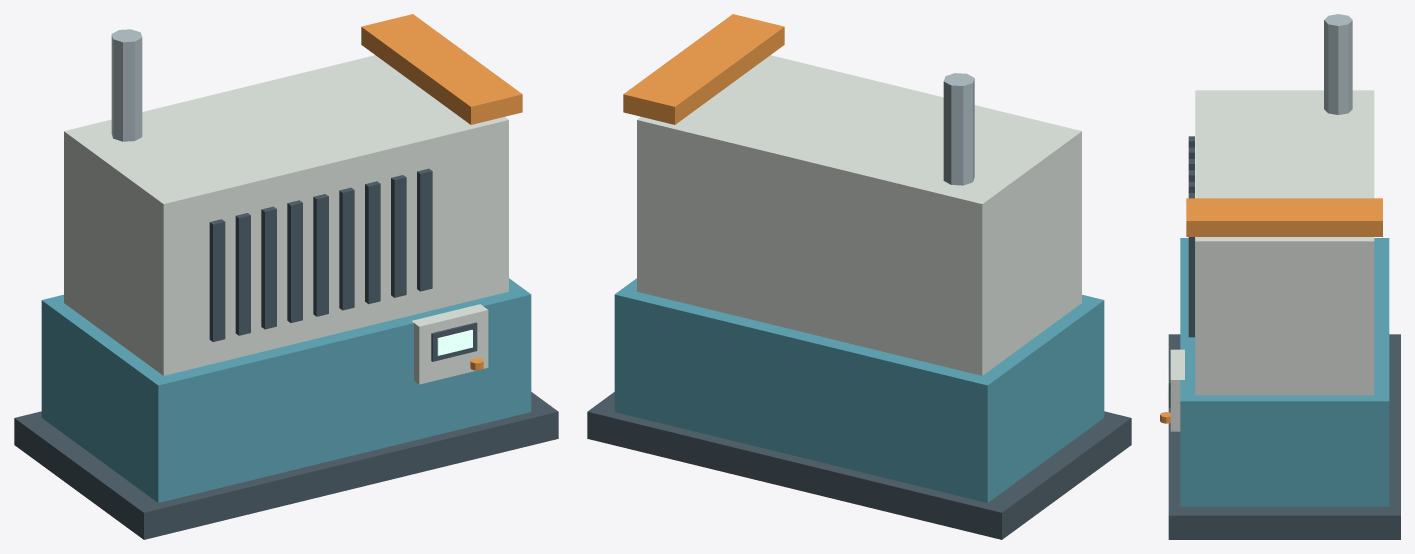
File: diesel-backup-generator.glb
3 renders of one model, left to right at view 1: azimuth 30°, elevation 25°; view 2: azimuth 150°, elevation 25°; view 3: azimuth 270°, elevation 25°, orthographic. The views are drawn at different scales.
Visible parts, largest first — view 1: cream, blue, dark, orange, steel, light; view 2: cream, blue, dark, orange, steel; view 3: cream, blue, dark, orange, steel.
Part boxes in pixels (bbox=[...]): cream: bbox=[64, 55, 508, 384]; blue: bbox=[41, 278, 531, 502]; dark: bbox=[14, 168, 558, 539]; orange: bbox=[361, 14, 522, 370]; steel: bbox=[111, 29, 142, 141]; light: bbox=[437, 330, 472, 355]; cream: bbox=[637, 55, 1081, 375]; blue: bbox=[614, 278, 1104, 502]; dark: bbox=[587, 392, 1131, 539]; orange: bbox=[623, 14, 784, 124]; steel: bbox=[943, 73, 974, 185]; cream: bbox=[1170, 90, 1374, 431]; blue: bbox=[1180, 238, 1389, 506]; dark: bbox=[1168, 136, 1400, 539]; orange: bbox=[1160, 198, 1382, 423]; steel: bbox=[1324, 14, 1352, 114].
Bounding box in the file's own units: 2.4 × 2.3 × 1.35.
